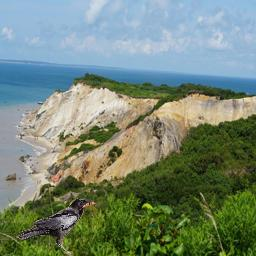Crow: (15, 196, 102, 254)
